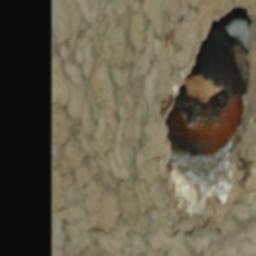Swallow: (165, 24, 244, 156)
